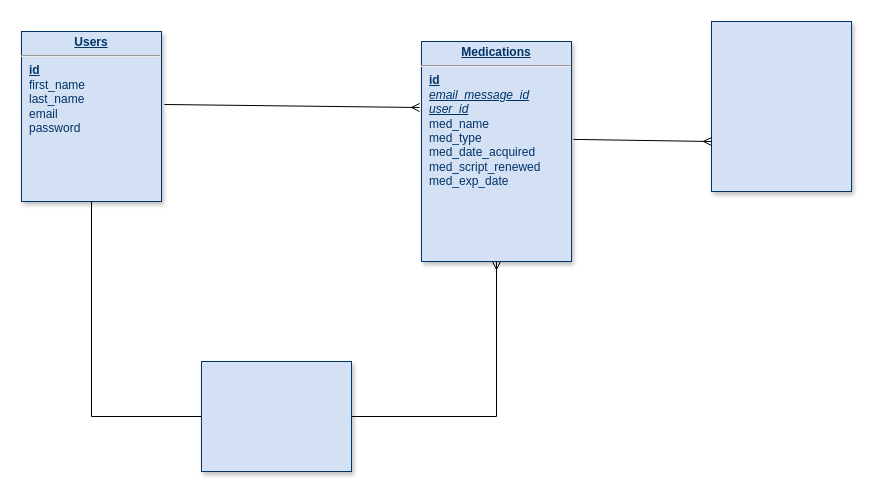
Some shapes in this 875 by 496 pixel diagram are drawn without their labels. Each missing label, with the centre of its shape:
"Additional_properties id medication_id label value" belongs at (x=782, y=107).
"Email_Messages id user_id date content" belongs at (x=277, y=417).
